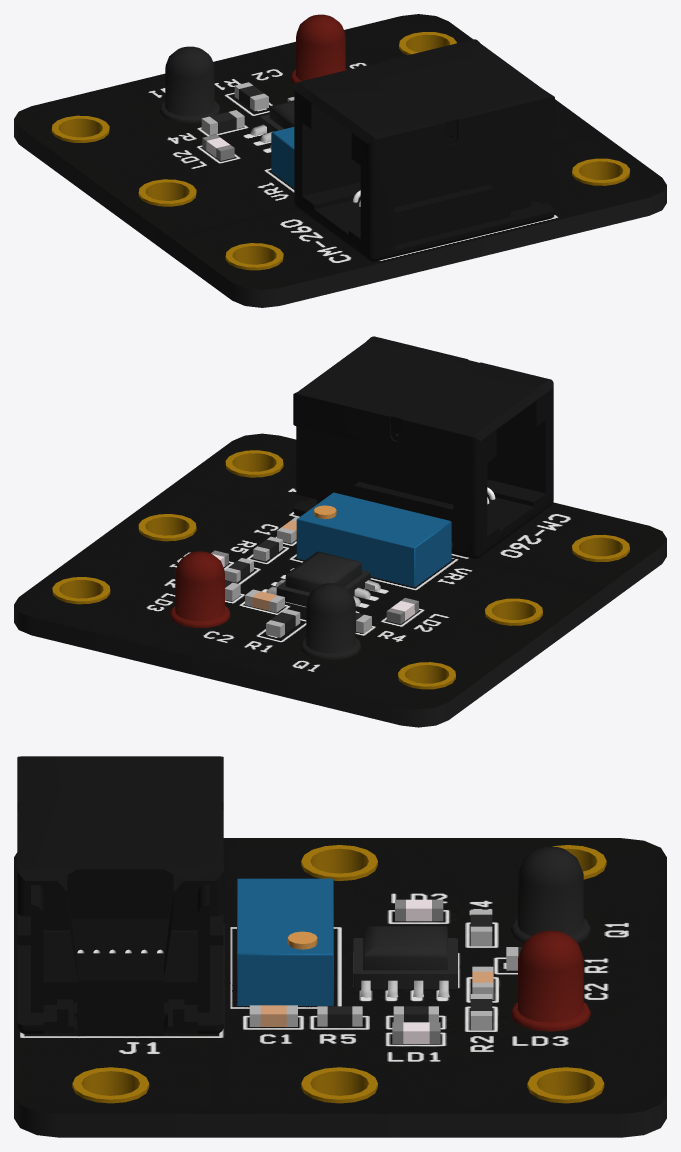
The model's file is IRSENSOR.glb.
3 views of the same model, one above another, from view 1: azimuth 30°, elevation 25°; view 2: azimuth 150°, elevation 25°; view 3: azimuth 270°, elevation 25° (orthographic). The views are drawn at different scales.
Parts seen in each view (by area): view 1: IR Proximity Sensor; view 2: IR Proximity Sensor; view 3: IR Proximity Sensor.
Part boxes in pixels (bbox=[...]): IR Proximity Sensor: bbox=[14, 14, 666, 307]; IR Proximity Sensor: bbox=[14, 336, 666, 727]; IR Proximity Sensor: bbox=[14, 756, 666, 1137].
Size of the model in its own units: 1 by 0.3232 by 1.
14 materials, 1 textured.
